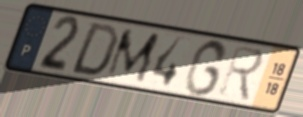2: (36, 13, 80, 75)
4: (149, 34, 185, 90)
D: (67, 21, 121, 79)
G: (182, 38, 230, 99)
M: (102, 28, 163, 85)
R: (215, 43, 266, 105)
